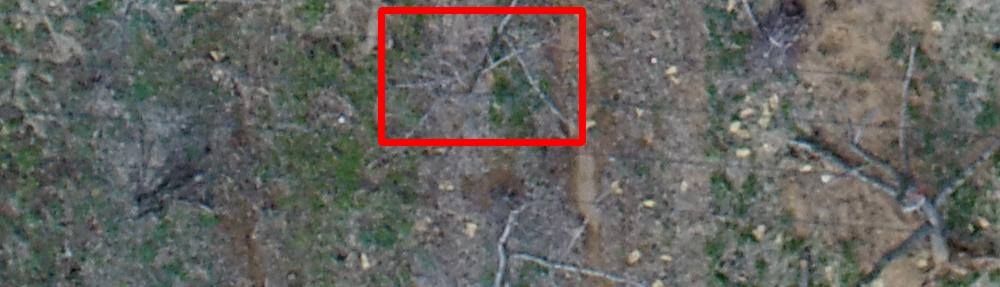apple: (381, 10, 582, 142)
